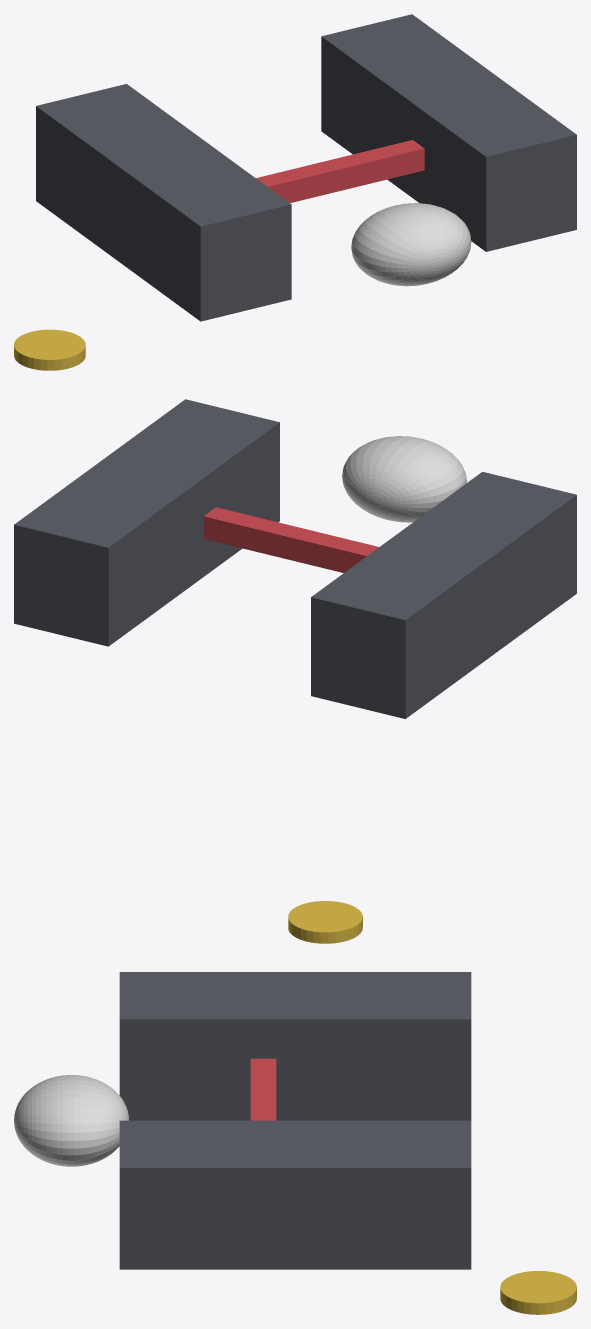
Rendered from obstacle_troll_toll_gate.glb.
The picture shows the model from 3 angles, top to bottom: view 1: azimuth 30°, elevation 25°; view 2: azimuth 150°, elevation 25°; view 3: azimuth 270°, elevation 25°; orthographic projection. The views are drawn at different scales.
Parts seen in each view (by area): view 1: left_booth, right_booth, troll_head, barrier, pay_coin; view 2: left_booth, right_booth, troll_head, barrier, pay_coin; view 3: right_booth, left_booth, troll_head, pay_coin, barrier.
Boxes of the visible parts, left/top/right/bottom form: left_booth: left=36, top=84, right=291, bottom=321; right_booth: left=321, top=14, right=576, bottom=251; troll_head: left=351, top=203, right=471, bottom=286; barrier: left=256, top=140, right=424, bottom=202; pay_coin: left=14, top=329, right=85, bottom=370; left_booth: left=311, top=471, right=576, bottom=718; right_booth: left=14, top=399, right=279, bottom=646; troll_head: left=342, top=436, right=466, bottom=522; barrier: left=203, top=507, right=378, bottom=572; pay_coin: left=288, top=901, right=362, bottom=943; right_booth: left=119, top=1120, right=471, bottom=1269; left_booth: left=119, top=972, right=471, bottom=1120; troll_head: left=14, top=1075, right=128, bottom=1166; pay_coin: left=500, top=1271, right=576, bottom=1314; barrier: left=250, top=1058, right=276, bottom=1120.
Bounding box in the file's own units: 1.45 × 1.05 × 1.76.
